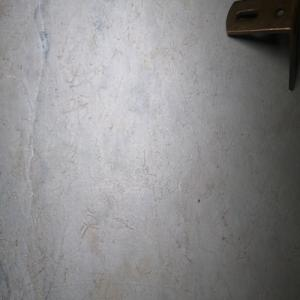MetalPart: (224, 0, 300, 93)
